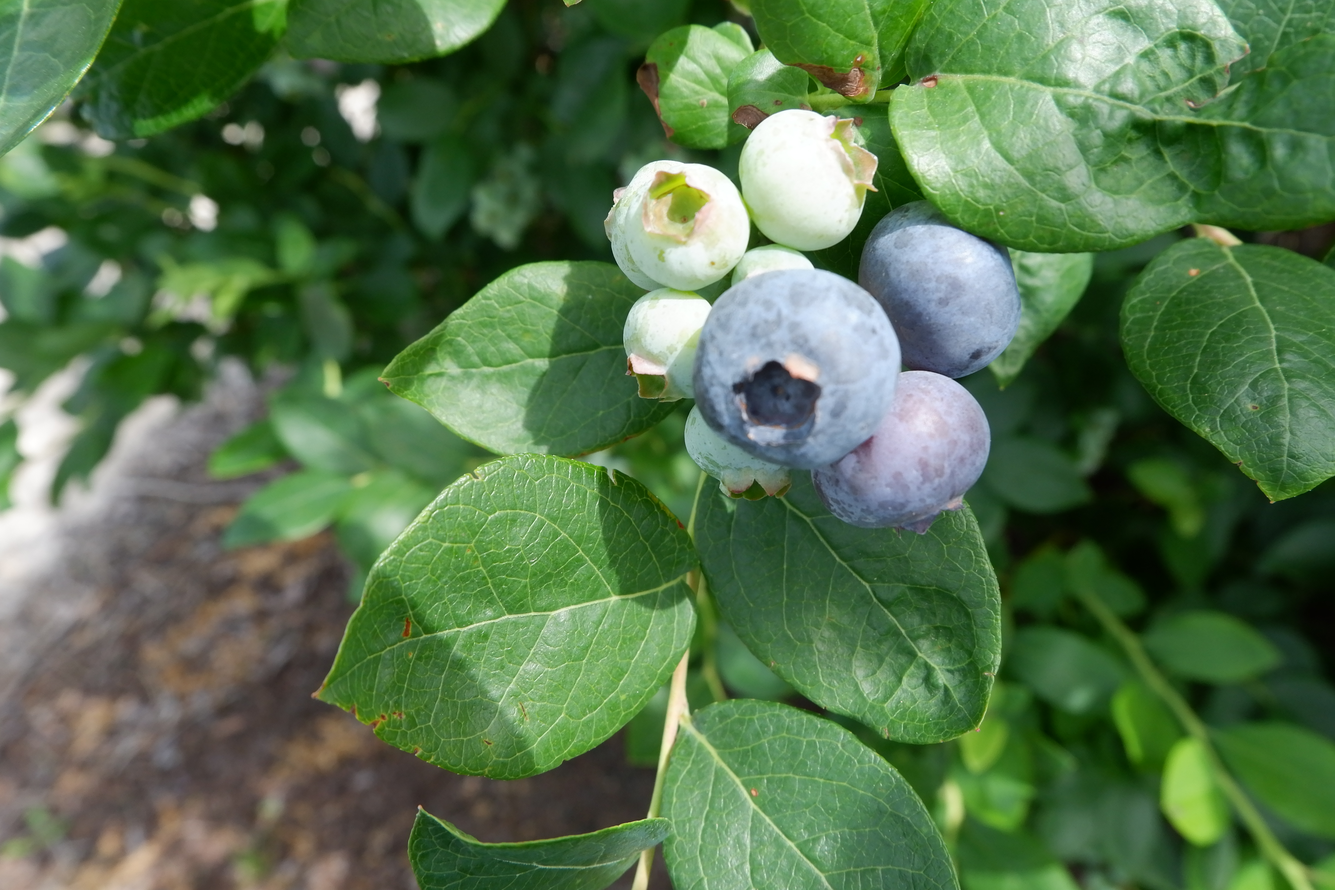Immature: (745, 112, 873, 246), (624, 166, 751, 290), (604, 160, 686, 292), (626, 289, 708, 397), (688, 409, 791, 493), (732, 246, 811, 283)
Mature: (697, 270, 899, 468), (859, 199, 1018, 379), (812, 371, 988, 533)
